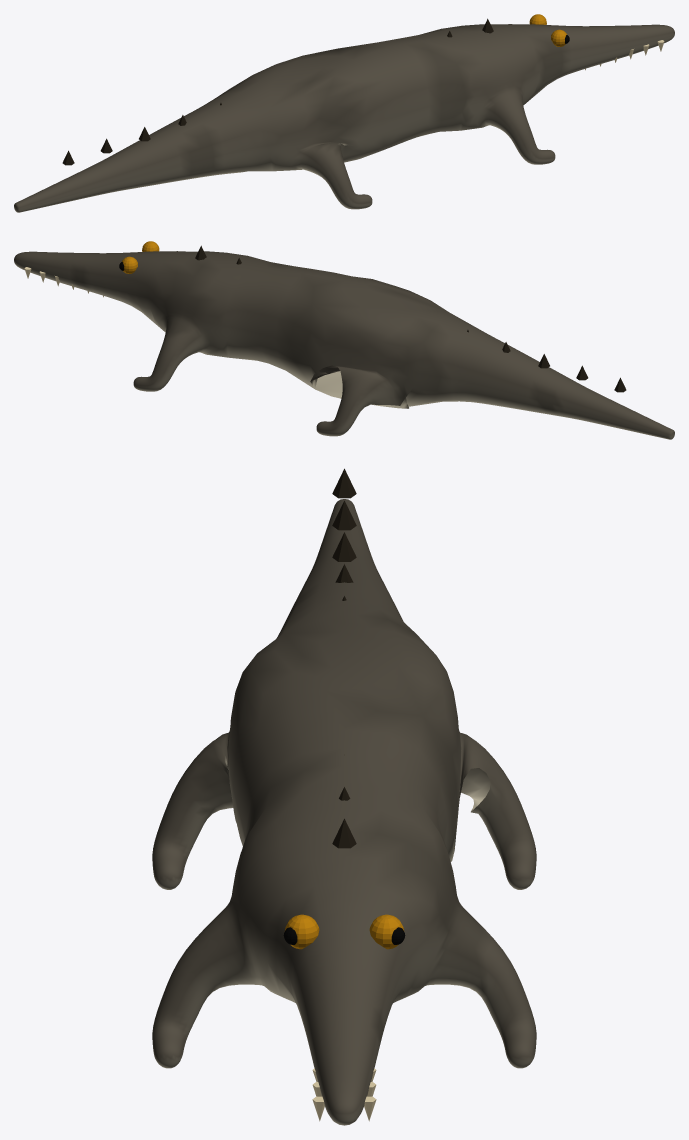
Rendered from megalania.glb.
3 renders of one model, top to bottom at view 1: azimuth 30°, elevation 25°; view 2: azimuth 150°, elevation 25°; view 3: azimuth 270°, elevation 25°, orthographic. The views are drawn at different scales.
Visible parts, largest first — view 1: corpo; view 2: corpo; view 3: corpo.
Boxes of the visible parts, <box> form: corpo: <box>14,14,674,212</box>; corpo: <box>14,241,674,439</box>; corpo: <box>152,468,536,1125</box>.
Size of the model in its own units: 3.91 by 0.6588 by 0.9872.
